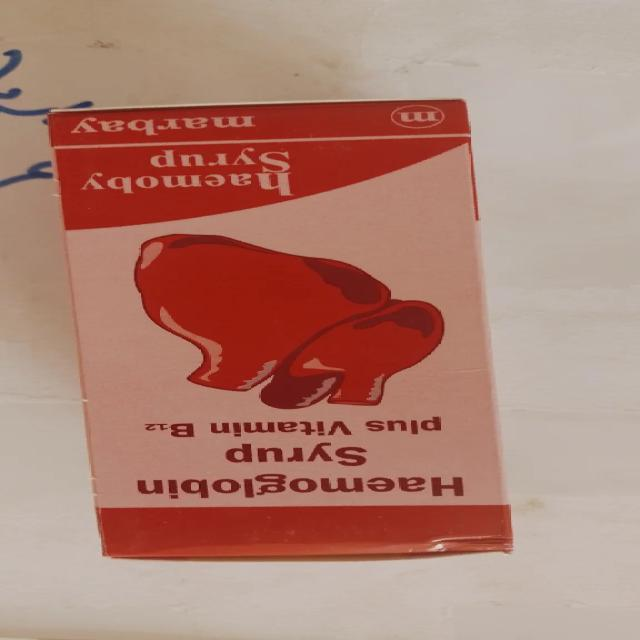drug-name: (129, 469, 468, 504)
